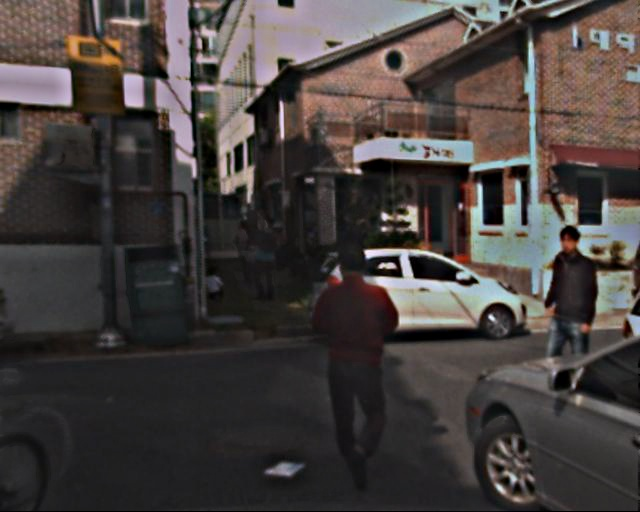person: (308, 239, 408, 484), (527, 224, 610, 430), (250, 218, 287, 307), (234, 221, 260, 284), (208, 267, 223, 304)
